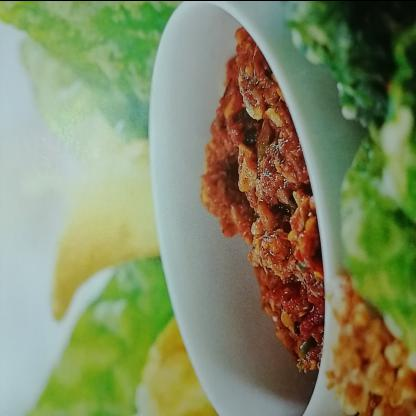Namprig: (167, 23, 384, 415)
